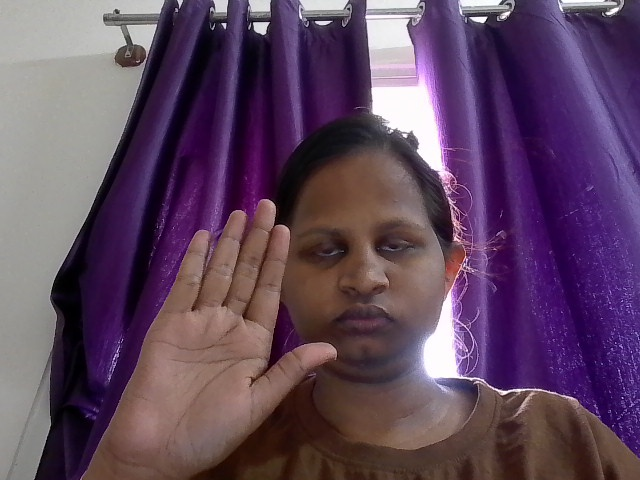HELLO: (58, 142, 384, 480)
